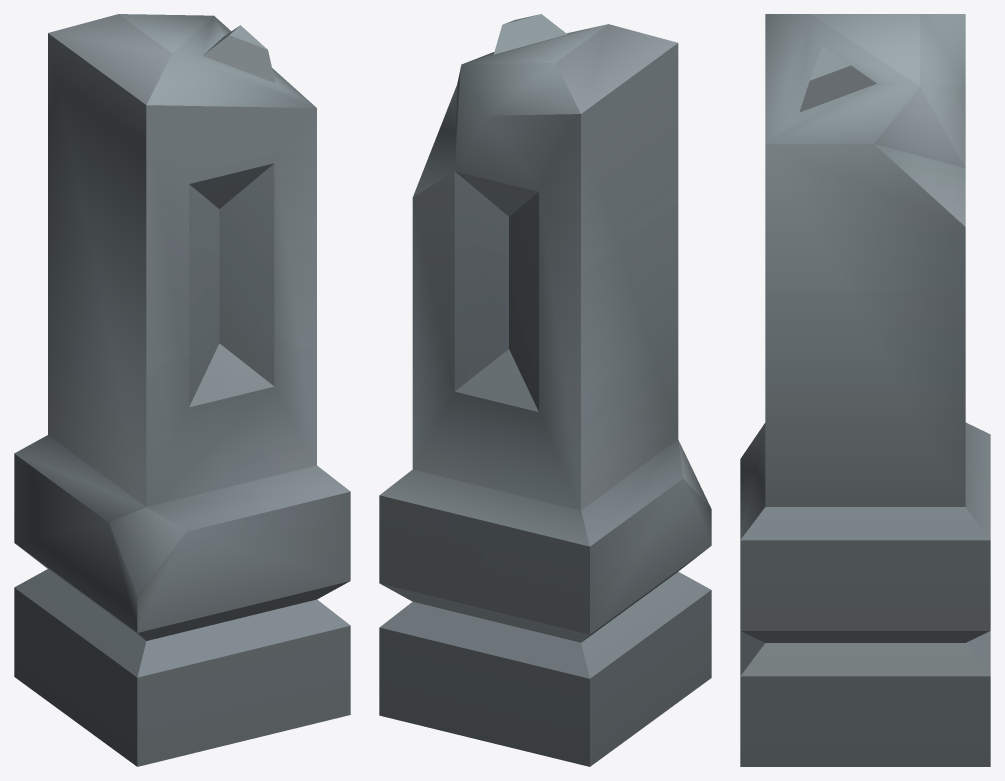
File: kaykit-halloween-bits-fence-pillar-broken.glb
3 renders of one model, left to right at view 1: azimuth 30°, elevation 25°; view 2: azimuth 150°, elevation 25°; view 3: azimuth 270°, elevation 25°, orthographic. The views are drawn at different scales.
Parts seen in each view (by area): view 1: fence_pillar_broken; view 2: fence_pillar_broken; view 3: fence_pillar_broken.
Part boxes in pixels (<box>): fence_pillar_broken: <box>14,14,350,766</box>; fence_pillar_broken: <box>379,14,711,766</box>; fence_pillar_broken: <box>740,14,990,766</box>.
Size of the model in its own units: 0.5 by 1.5 by 0.5.
1 material, 1 textured.
